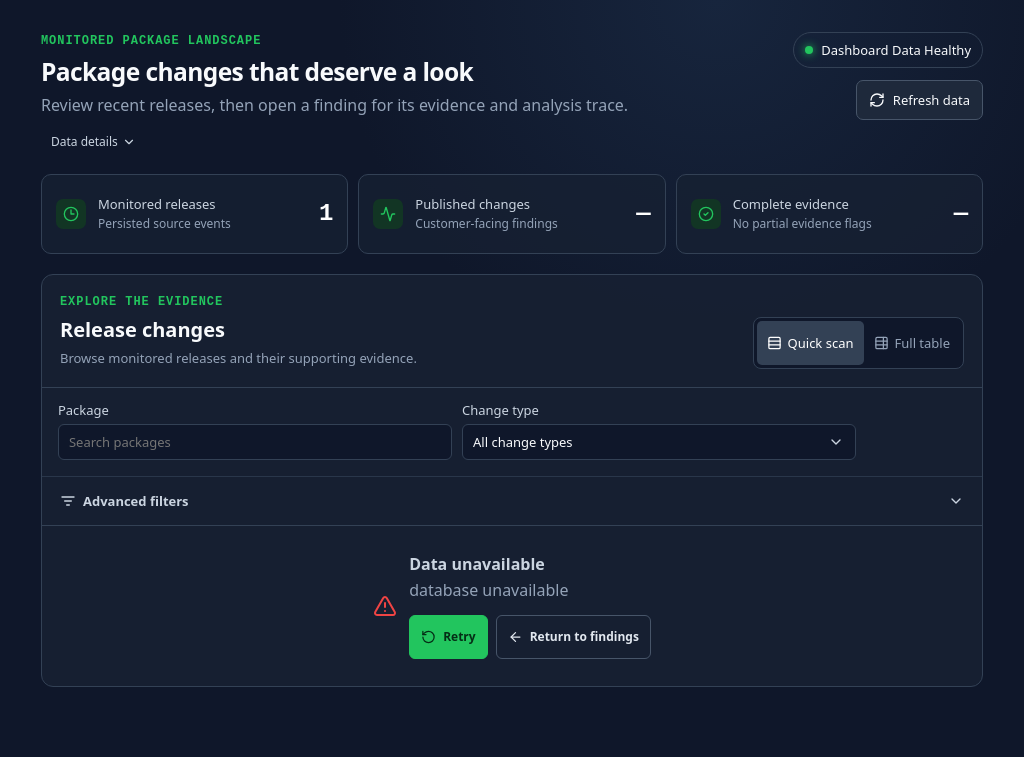
Scenario: findings dashboard › retries an explicit API error in place
Check: the message "Data unavailable database unavailable Retry Return to findings" is shown, box [373,553,651,658]
Click the button "Retry" at x=448, y=636, box [409,614,488,658]
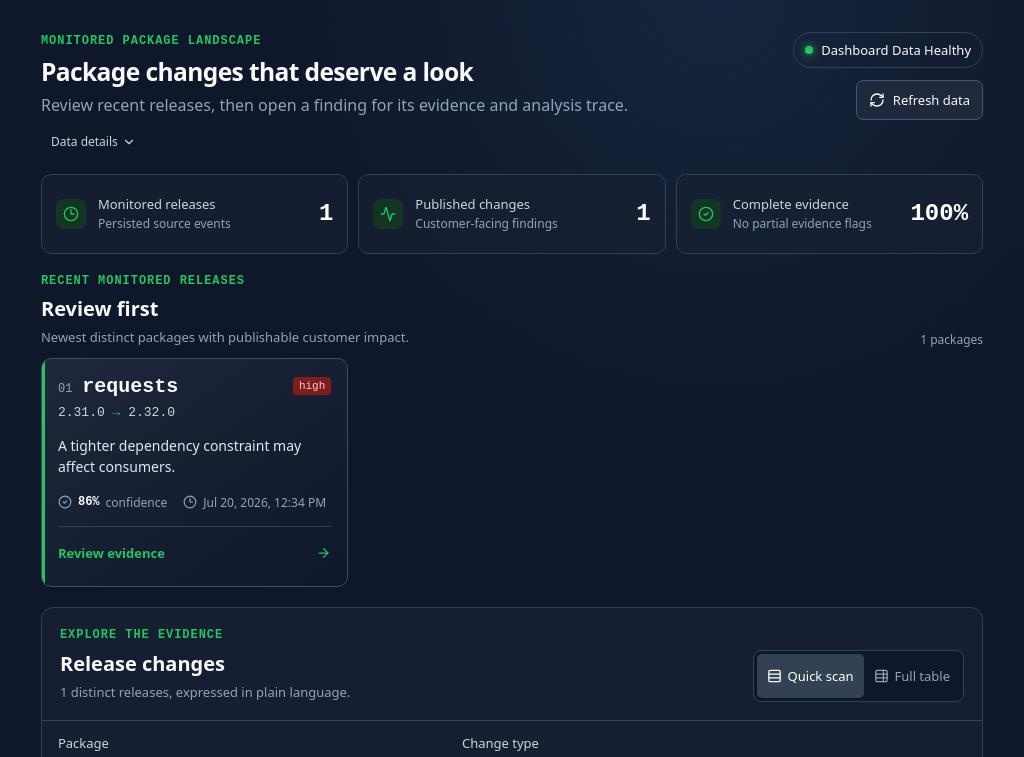
Check: the number of links "requests" is 2
